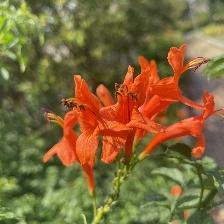honeysuckle: (69, 72, 168, 150)
